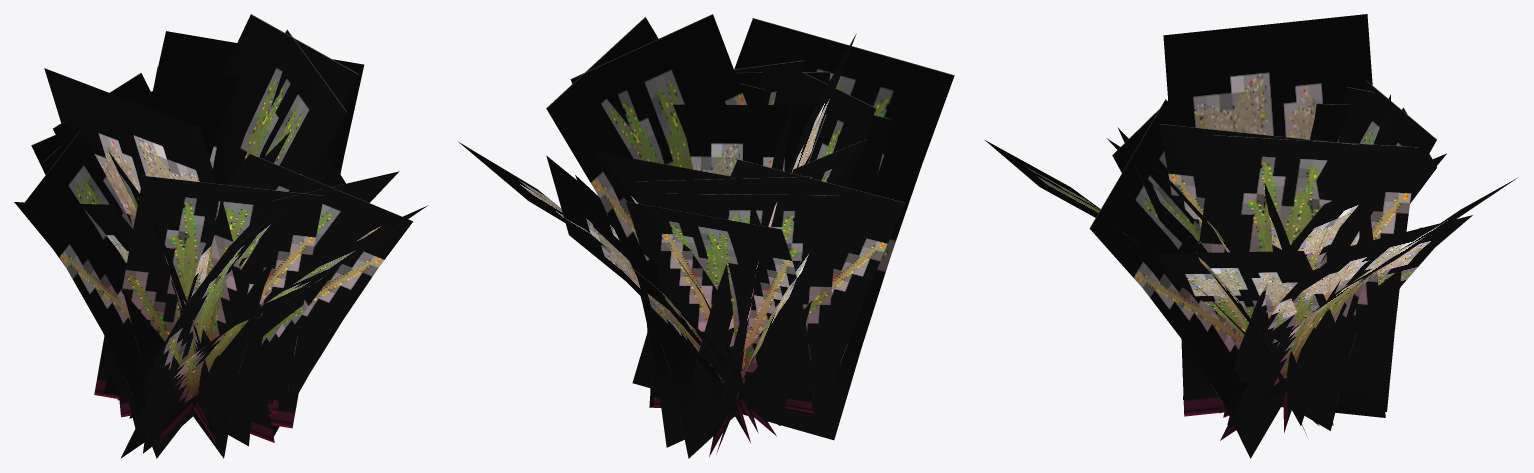
Rendered from susuki.glb.
3 views of the same model, side by side, from view 1: azimuth 30°, elevation 25°; view 2: azimuth 150°, elevation 25°; view 3: azimuth 270°, elevation 25° (orthographic).
Parts seen in each view (by area): view 1: v0_lod0, v2_lod0, v1_lod0; view 2: v2_lod0, v0_lod0, v1_lod0; view 3: v0_lod0, v1_lod0, v2_lod0.
Boxes of the visible parts, x1,y1,x2,y2 form: v0_lod0: [31, 14, 358, 453]; v2_lod0: [24, 29, 399, 458]; v1_lod0: [14, 73, 427, 458]; v2_lod0: [457, 14, 905, 447]; v0_lod0: [546, 17, 890, 458]; v1_lod0: [546, 18, 954, 453]; v0_lod0: [1106, 14, 1446, 438]; v1_lod0: [985, 80, 1472, 458]; v2_lod0: [1117, 87, 1517, 440].
Size of what is drawn, in the model's own units: 1.78 by 1.61 by 2.13.
1 material, 1 textured.
